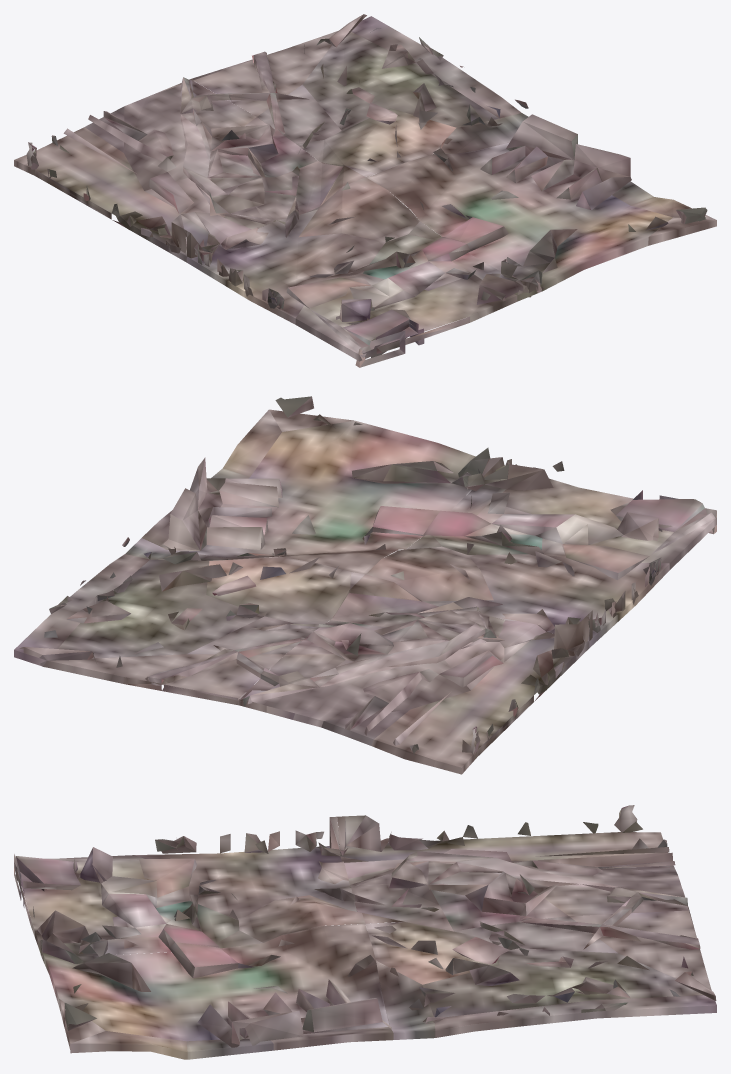
3 views of the same model, one above another, from view 1: azimuth 30°, elevation 25°; view 2: azimuth 150°, elevation 25°; view 3: azimuth 270°, elevation 25° (orthographic). The views are drawn at different scales.
Visible parts, largest first — view 1: Mesh_0; view 2: Mesh_0; view 3: Mesh_0.
Part boxes in pixels (bbox=[...]): Mesh_0: bbox=[14, 14, 716, 367]; Mesh_0: bbox=[14, 396, 716, 774]; Mesh_0: bbox=[14, 805, 716, 1059].
Bounding box in the file's own units: 532 × 63.95 × 659.
1 material, 1 textured.
